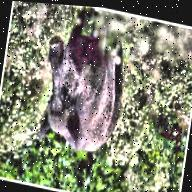boar: (15, 1, 136, 173)
